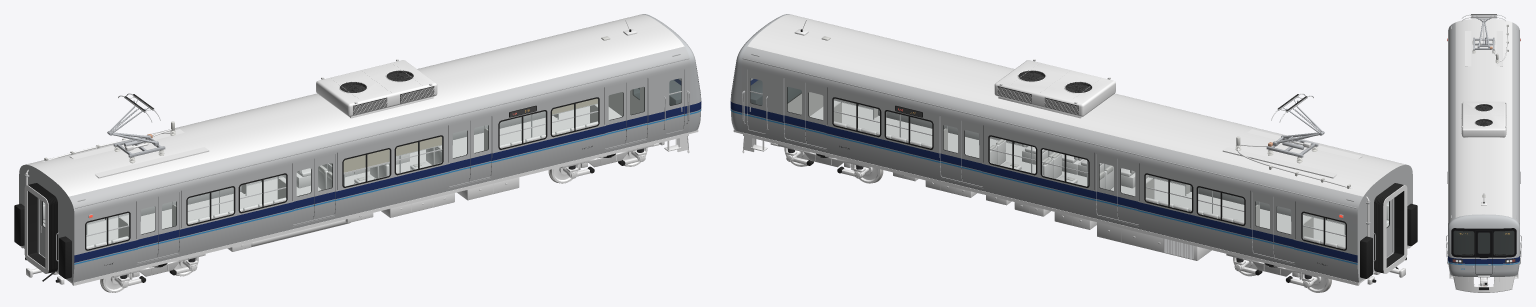
The model's file is e219_kumoha.glb.
The picture shows the model from 3 angles, left to right: view 1: azimuth 30°, elevation 25°; view 2: azimuth 150°, elevation 25°; view 3: azimuth 270°, elevation 25°; orthographic projection. The views are drawn at different scales.
Visible parts, largest first — view 1: Body_Shell, Doors, Window_Glass, Floor, AC_Unit, Door_Glass, Side_Sill, Window_Frames, End_Wall, Gangway_Bellows, Rain_Gutter, Front_Mask_FRP (+11 smaller); view 2: Body_Shell, Doors, Window_Glass, Floor, AC_Unit, Door_Glass, Side_Sill.001, Window_Frames, End_Wall, Gangway_Bellows, VVVF_Inverter, Rain_Gutter.001 (+8 smaller); view 3: Body_Shell, Front_Mask_FRP, Front_BlackFace, AC_Unit, Skirt, Front_Windshield, Front_Windshield.001, Roof_Walkway, Front_Door_Window, Roof_Walkway.001, Rain_Gutter, Rain_Gutter.001 (+6 smaller).
Part boxes in pixels (x1,y1,x2,y2): Body_Shell: [19, 14, 690, 282]; Doors: [87, 68, 684, 262]; Window_Glass: [43, 99, 597, 247]; Floor: [86, 104, 621, 245]; AC_Unit: [316, 60, 437, 116]; Door_Glass: [141, 78, 680, 233]; Side_Sill: [72, 132, 688, 285]; Window_Frames: [85, 97, 599, 250]; End_Wall: [19, 166, 73, 281]; Gangway_Bellows: [28, 183, 57, 273]; Rain_Gutter: [75, 58, 689, 208]; Front_Mask_FRP: [642, 14, 701, 132]; Body_Shell: [741, 14, 1412, 282]; Doors: [747, 68, 1344, 262]; Window_Glass: [834, 99, 1388, 247]; Floor: [810, 100, 1345, 245]; AC_Unit: [994, 60, 1115, 116]; Door_Glass: [751, 78, 1290, 233]; Side_Sill.001: [743, 132, 1359, 285]; Window_Frames: [832, 97, 1346, 250]; End_Wall: [1358, 166, 1412, 281]; Gangway_Bellows: [1374, 183, 1403, 273]; VVVF_Inverter: [1097, 222, 1211, 260]; Rain_Gutter.001: [742, 58, 1356, 208]; Body_Shell: [1448, 19, 1519, 225]; Front_Mask_FRP: [1448, 214, 1519, 276]; Front_BlackFace: [1451, 228, 1516, 257]; AC_Unit: [1462, 101, 1505, 137]; Skirt: [1453, 276, 1514, 292]; Front_Windshield: [1454, 231, 1473, 254]; Front_Windshield.001: [1494, 231, 1513, 254]; Roof_Walkway: [1465, 31, 1471, 66]; Front_Door_Window: [1478, 233, 1489, 253]; Roof_Walkway.001: [1496, 31, 1502, 66]; Rain_Gutter: [1448, 28, 1448, 222]; Rain_Gutter.001: [1519, 28, 1519, 222].
Bounding box in the file's own units: 20.49 × 5.13 × 3.08.
